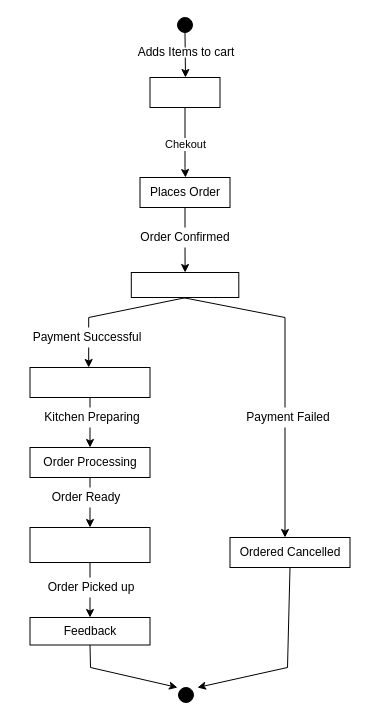
This 367x720 diagram has some shape labels left out. Here are the shapes that lost their labels. From the top down, the centre of each, then its label:
[184,92]: Cart
[184,285]: Payment
[89,382]: Payment Complete
[89,544]: Order Complete
